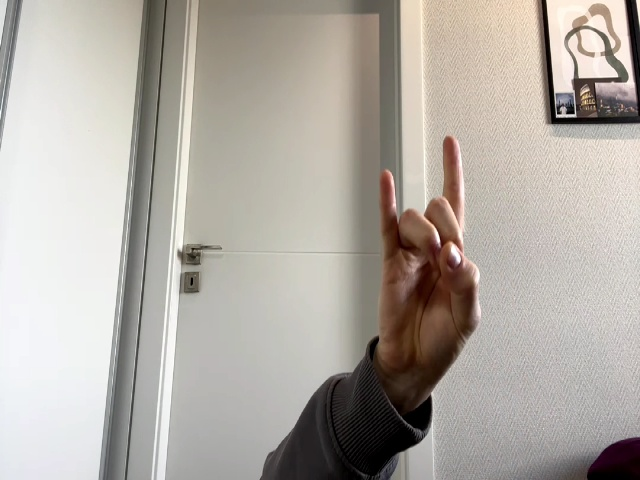Y: (379, 136, 482, 385)
